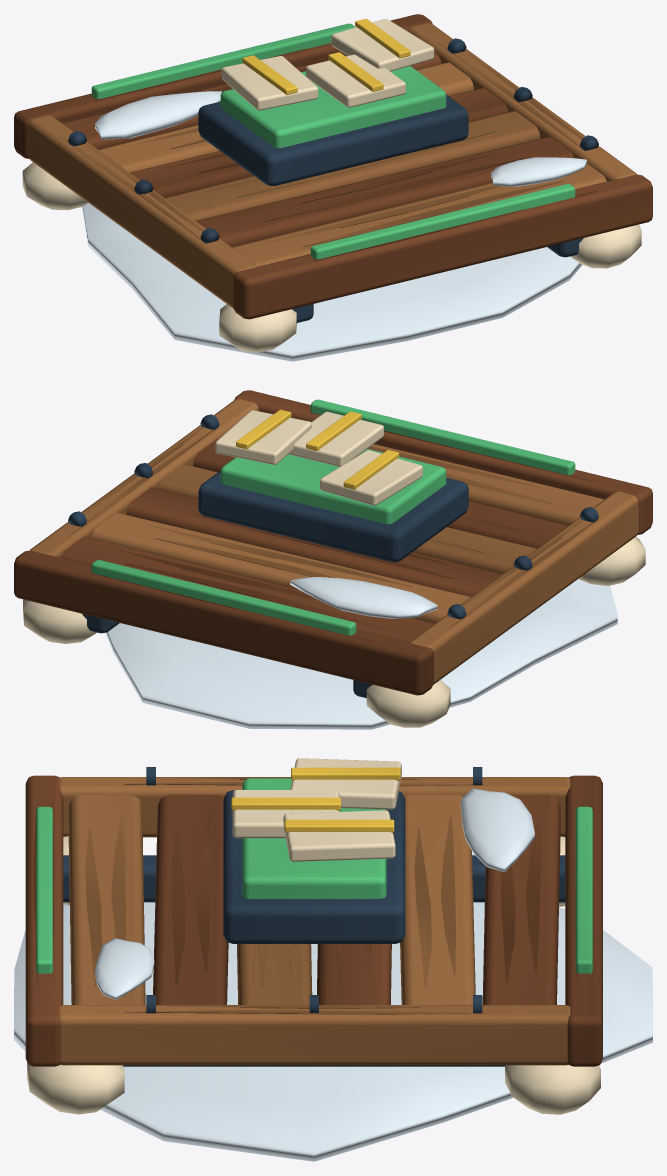
File: pad_payment.glb
3 views of the same model, one above another, from view 1: azimuth 30°, elevation 25°; view 2: azimuth 150°, elevation 25°; view 3: azimuth 270°, elevation 25° (orthographic). The views are drawn at different scales.
Parts seen in each view (by area): view 1: pad_payment; view 2: pad_payment; view 3: pad_payment.
Boxes of the visible parts, left/top/right/bottom form: pad_payment: left=14, top=14, right=652, bottom=361; pad_payment: left=14, top=390, right=652, bottom=729; pad_payment: left=14, top=758, right=652, bottom=1161.
Size of the model in its own units: 2.14 by 0.8625 by 2.04.
